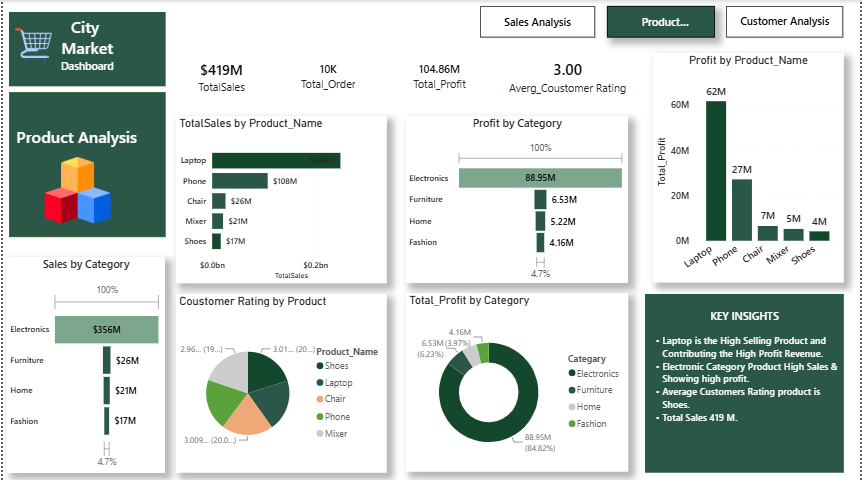

The page's visual inventory and layout, read from the dashboard file:
{"tool":"powerbi","page":{"name":"Product Analysis","canvas":[1280,720],"ordinal":1},"visuals":[{"type":"textbox","box":[8.5,18.3,233.8,110.8],"z":1},{"type":"image","box":[8.5,41.4,73.1,54.8],"z":2},{"type":"shape","box":[8.5,137.6,233.8,216.8],"z":3},{"type":"textbox","box":[8.5,182.7,202.2,77.9],"z":4},{"type":"image","box":[20.7,235.1,181.5,98.6],"z":5},{"type":"funnel","title":"Sales by Category","fields":{"Category":["Sales_Data.Categary"],"Y":["TotalSales.TotalSales"]},"box":[6.1,383.6,236.3,321.5],"z":8},{"type":"funnel","title":"Profit by Category","fields":{"Category":["Sales_Data.Categary"],"Y":["TotalSales.Total_Profit"]},"box":[601.6,172.9,332.5,249.7],"z":9},{"type":"cardVisual","fields":{"Data":["TotalSales.TotalSales"]},"box":[258.2,69.4,136.4,90.1],"z":10},{"type":"cardVisual","fields":{"Data":["TotalSales.Total_Profit"]},"box":[573.6,69.4,157.1,90.1],"z":11},{"type":"cardVisual","fields":{"Data":["TotalSales.Total_Order"]},"box":[394.6,69.4,183.9,90.1],"z":12},{"type":"cardVisual","fields":{"Data":["TotalSales.Averg_Coustomer Rating"]},"box":[717.3,69.4,253.3,90.1],"z":13},{"type":"actionButton","box":[712.5,8.5,171.7,47.5],"z":16},{"type":"actionButton","box":[902.5,8.5,160.8,47.5],"z":17},{"type":"actionButton","box":[1080.3,8.5,175.4,47.5],"z":18},{"type":"columnChart","title":"Profit by Product_Name","fields":{"Category":["Sales_Data.Product_Name"],"Y":["TotalSales.Total_Profit"]},"box":[970.7,79.2,285,343.4],"z":19},{"type":"barChart","fields":{"Category":["Sales_Data.Product_Name"],"Y":["TotalSales.TotalSales"]},"box":[258.2,172.9,315.4,249.7],"z":20},{"type":"pieChart","title":"Coustomer Rating by Product","fields":{"Category":["Sales_Data.Product_Name"],"Y":["TotalSales.Averg_Coustomer Rating"]},"box":[258.2,438.4,315.4,266.7],"z":21},{"type":"donutChart","title":"Total_Profit by Category","fields":{"Category":["Sales_Data.Categary"],"Y":["TotalSales.Total_Profit"]},"box":[602,438,332,267],"z":22},{"type":"textbox","box":[958.5,438.4,297.2,266.7],"z":23}]}

Visuals, with their boxes in screenshot pixels (x1, y1, x2, y2), scaled from the page's 1280x720 canvas onto the 862x480 screenshot:
textbox: bbox(6, 12, 163, 86)
image: bbox(6, 28, 55, 64)
shape: bbox(6, 92, 163, 236)
textbox: bbox(6, 122, 142, 174)
image: bbox(14, 157, 136, 222)
"Sales by Category" funnel: bbox(4, 256, 163, 470)
"Profit by Category" funnel: bbox(405, 115, 629, 282)
cardVisual - TotalSales.TotalSales: bbox(174, 46, 266, 106)
cardVisual - TotalSales.Total_Profit: bbox(386, 46, 492, 106)
cardVisual - TotalSales.Total_Order: bbox(266, 46, 390, 106)
cardVisual - TotalSales.Averg_Coustomer Rating: bbox(483, 46, 654, 106)
actionButton: bbox(480, 6, 595, 37)
actionButton: bbox(608, 6, 716, 37)
actionButton: bbox(728, 6, 846, 37)
"Profit by Product_Name" columnChart: bbox(654, 53, 846, 282)
barChart - Sales_Data.Product_Name x TotalSales.TotalSales: bbox(174, 115, 386, 282)
"Coustomer Rating by Product" pieChart: bbox(174, 292, 386, 470)
"Total_Profit by Category" donutChart: bbox(405, 292, 629, 470)
textbox: bbox(645, 292, 846, 470)
